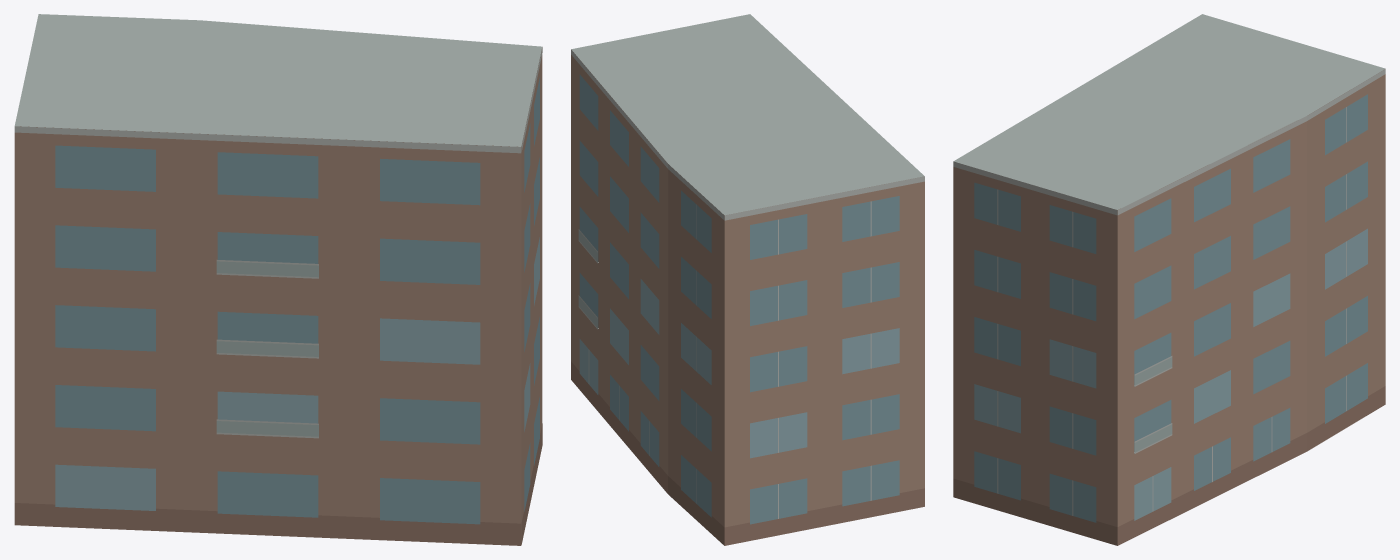
File: survey-upis-32937666.glb
3 renders of one model, left to right at view 1: azimuth 30°, elevation 25°; view 2: azimuth 150°, elevation 25°; view 3: azimuth 270°, elevation 25°, orthographic. The views are drawn at different scales.
Visible parts, largest first — view 1: survey-upis-32937666.tmp; view 2: survey-upis-32937666.tmp; view 3: survey-upis-32937666.tmp.
Part boxes in pixels (x1=…): survey-upis-32937666.tmp: x1=14, y1=14, x2=542, y2=545; survey-upis-32937666.tmp: x1=571, y1=14, x2=924, y2=545; survey-upis-32937666.tmp: x1=953, y1=14, x2=1385, y2=545.
Size of the model in its own units: 19.11 by 15.25 by 17.81.
